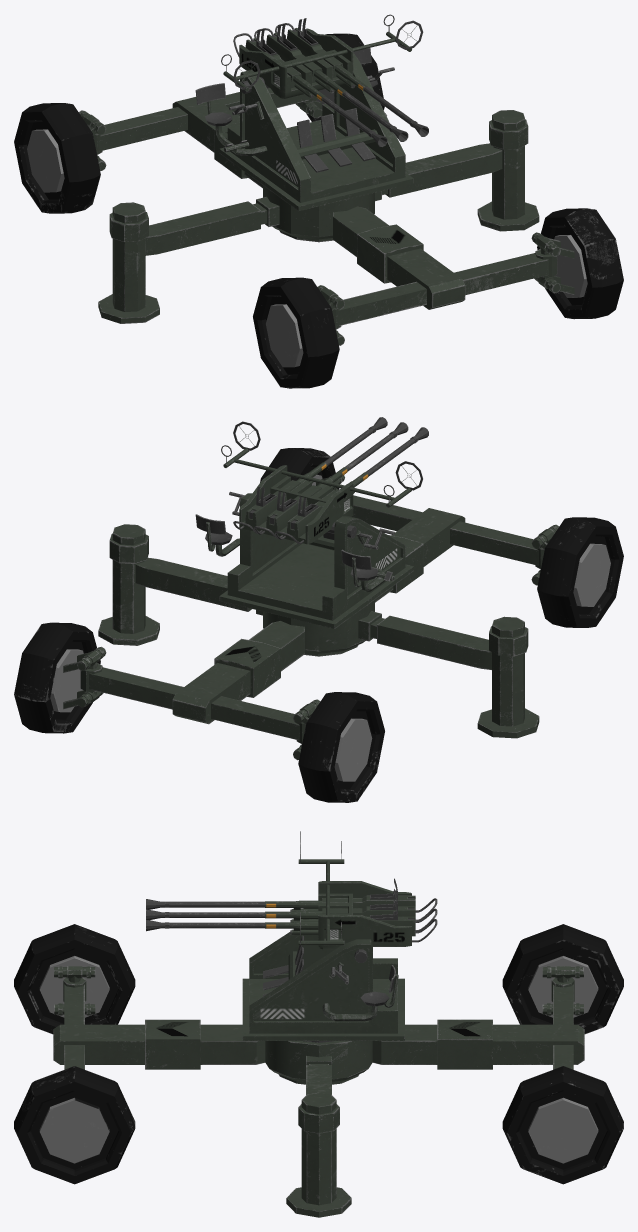
File: Gunmaggedon L25 AA.fbx
The picture shows the model from 3 angles, top to bottom: view 1: azimuth 30°, elevation 25°; view 2: azimuth 150°, elevation 25°; view 3: azimuth 270°, elevation 25°; orthographic projection. The views are drawn at different scales.
Parts seen in each view (by area): view 1: wheels, base, supports, traverse, gun, barrel_right, barrel_left, barrel_middle; view 2: wheels, base, supports, traverse, gun; view 3: wheels, base, traverse, gun, supports, barrel_left, barrel_right, barrel_middle.
Boxes of the visible parts, x1,y1,x2,y2 form: wheels: [14, 33, 623, 388]; base: [78, 88, 574, 345]; supports: [98, 110, 539, 323]; traverse: [195, 48, 413, 211]; gun: [221, 14, 423, 101]; barrel_right: [322, 96, 387, 147]; barrel_left: [363, 86, 428, 136]; barrel_middle: [343, 91, 408, 141]; wheels: [14, 448, 623, 802]; base: [63, 475, 559, 760]; supports: [98, 524, 539, 738]; traverse: [195, 493, 413, 628]; gun: [221, 421, 422, 544]; wheels: [14, 924, 623, 1184]; base: [53, 966, 584, 1084]; traverse: [242, 919, 404, 1042]; gun: [265, 831, 437, 962]; supports: [286, 908, 351, 1217]; barrel_left: [146, 919, 264, 931]; barrel_right: [146, 899, 264, 909]; barrel_middle: [146, 909, 264, 920].
Size of the model in its own units: 688 by 348 by 817.
Materials: 4 (4 with a texture image).
